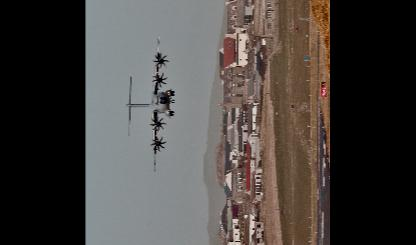A400M: (125, 33, 174, 170)
